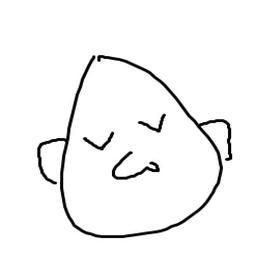closed_eye: (79, 127, 118, 152), (133, 112, 171, 135)
ear: (191, 114, 238, 161), (31, 135, 69, 184)
nose: (111, 149, 162, 182)
